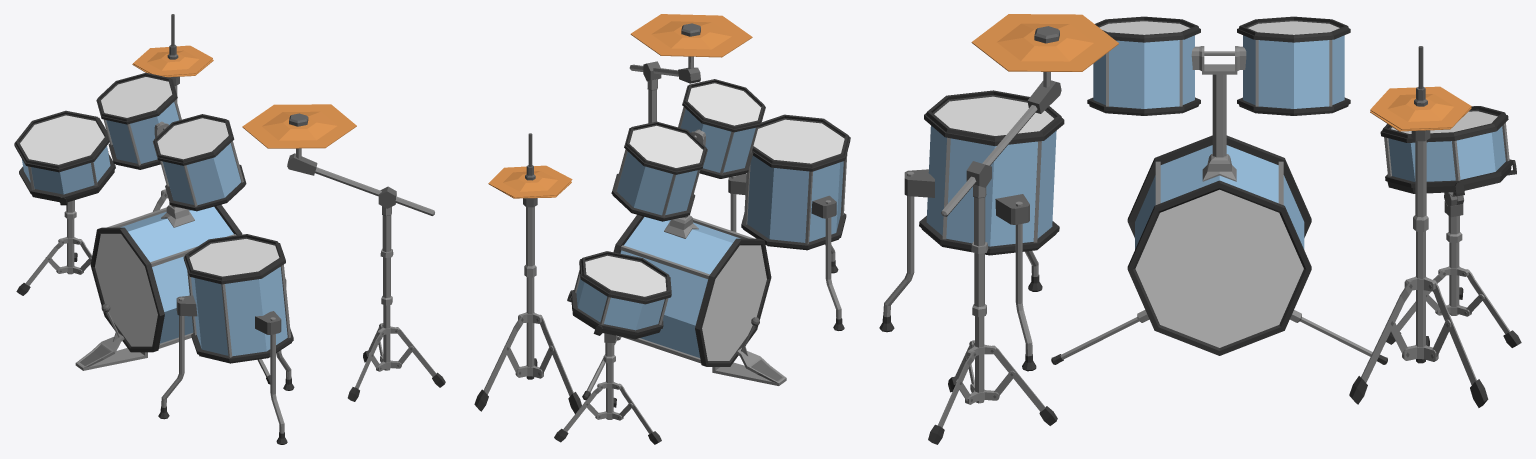
File: scene_aBuOYTrUCY.glb
3 renders of one model, left to right at view 1: azimuth 30°, elevation 25°; view 2: azimuth 150°, elevation 25°; view 3: azimuth 270°, elevation 25°, orthographic. The views are drawn at different scales.
Visible parts, largest first — view 1: Base_Cylinder, FloorTom_Cylinder.006, SnareDrum_Cylinder.012, Crash_Cymbal_Cylinder.002, Crash/RideCymbal_Cylinder.005; view 2: Base_Cylinder, FloorTom_Cylinder.006, SnareDrum_Cylinder.012, Crash/RideCymbal_Cylinder.005, Crash_Cymbal_Cylinder.002; view 3: Base_Cylinder, FloorTom_Cylinder.006, Crash_Cymbal_Cylinder.002, SnareDrum_Cylinder.012, Crash/RideCymbal_Cylinder.005.
Part boxes in pixels (x1=…): Base_Cylinder: x1=75, y1=72, x2=270, y2=384; FloorTom_Cylinder.006: x1=158, y1=234, x2=294, y2=444; SnareDrum_Cylinder.012: x1=14, y1=110, x2=115, y2=295; Crash_Cymbal_Cylinder.002: x1=242, y1=104, x2=445, y2=401; Crash/RideCymbal_Cylinder.005: x1=132, y1=14, x2=213, y2=211; Base_Cylinder: x1=582, y1=79, x2=786, y2=400; FloorTom_Cylinder.006: x1=728, y1=114, x2=850, y2=330; SnareDrum_Cylinder.012: x1=554, y1=251, x2=671, y2=444; Crash/RideCymbal_Cylinder.005: x1=474, y1=133, x2=581, y2=413; Crash_Cymbal_Cylinder.002: x1=629, y1=14, x2=752, y2=123; Base_Cylinder: x1=1051, y1=16, x2=1387, y2=364; FloorTom_Cylinder.006: x1=879, y1=90, x2=1064, y2=371; Crash_Cymbal_Cylinder.002: x1=928, y1=14, x2=1118, y2=444; SnareDrum_Cylinder.012: x1=1380, y1=106, x2=1521, y2=347; Crash/RideCymbal_Cylinder.005: x1=1349, y1=46, x2=1488, y2=407.
Bounding box in the file's own units: 2.53 × 2.46 × 4.1.
